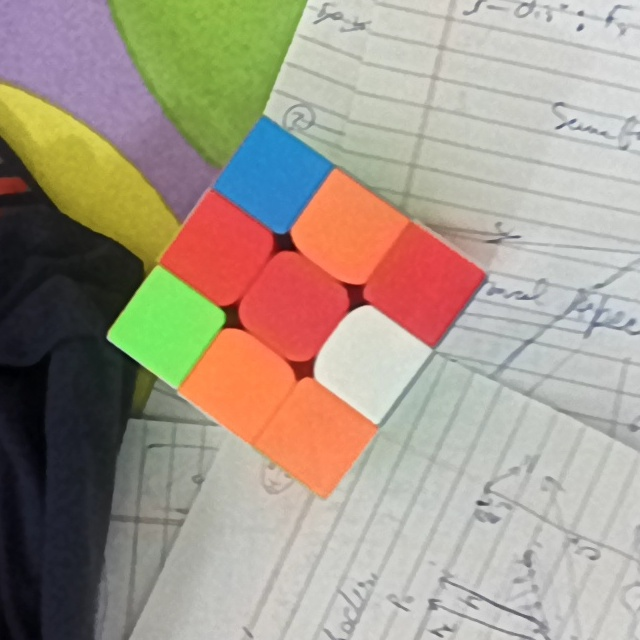tile: (333, 331, 400, 394), (389, 255, 454, 317), (283, 405, 345, 470), (187, 221, 249, 283), (237, 149, 303, 207), (311, 201, 378, 258), (260, 279, 325, 337), (133, 301, 194, 360), (203, 359, 268, 413)
